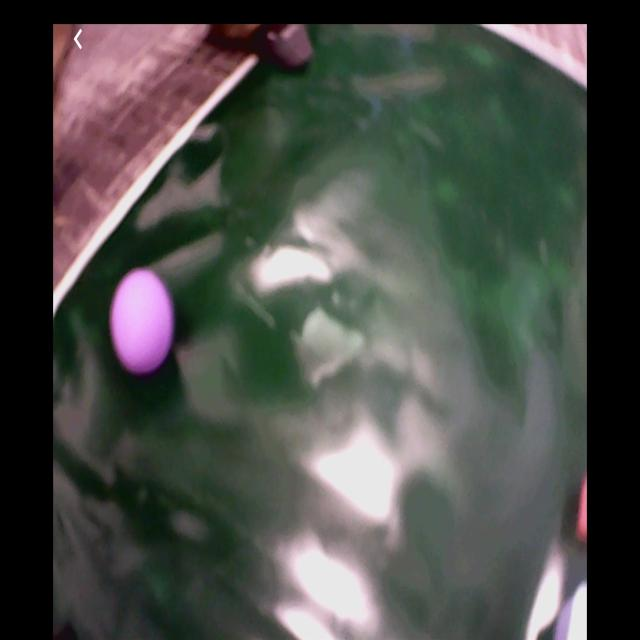ball: (108, 267, 175, 373)
